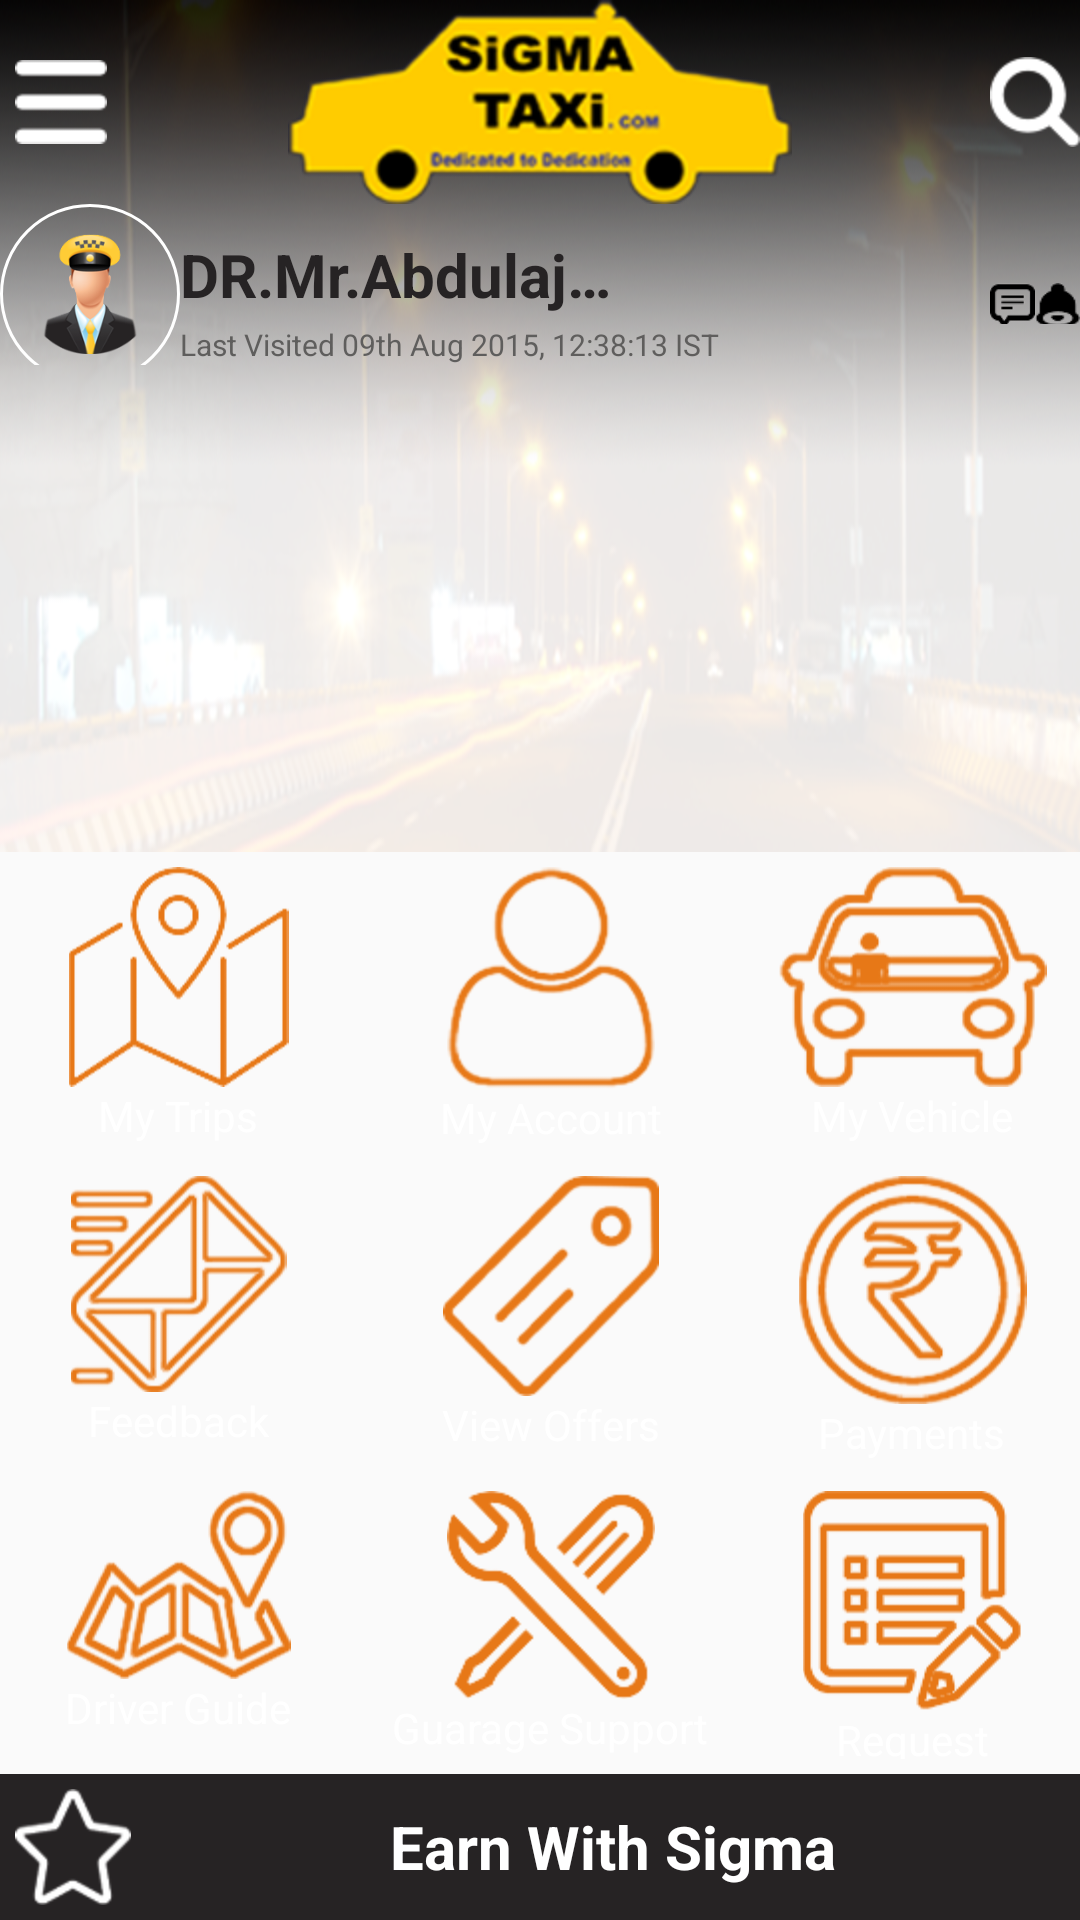

Screen size 1080×1920. Icon name, then its center in pixels as (x,y):
alert: (1057,303)
comments: (1012,304)
menu: (61,102)
search: (1035,102)
star: (73,1847)
